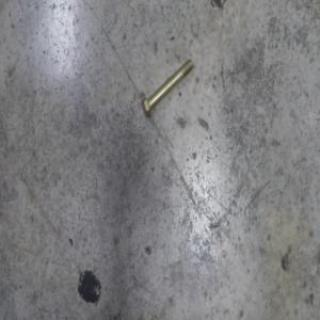Bolttrack_idkeyframe: (138, 59, 192, 120)
